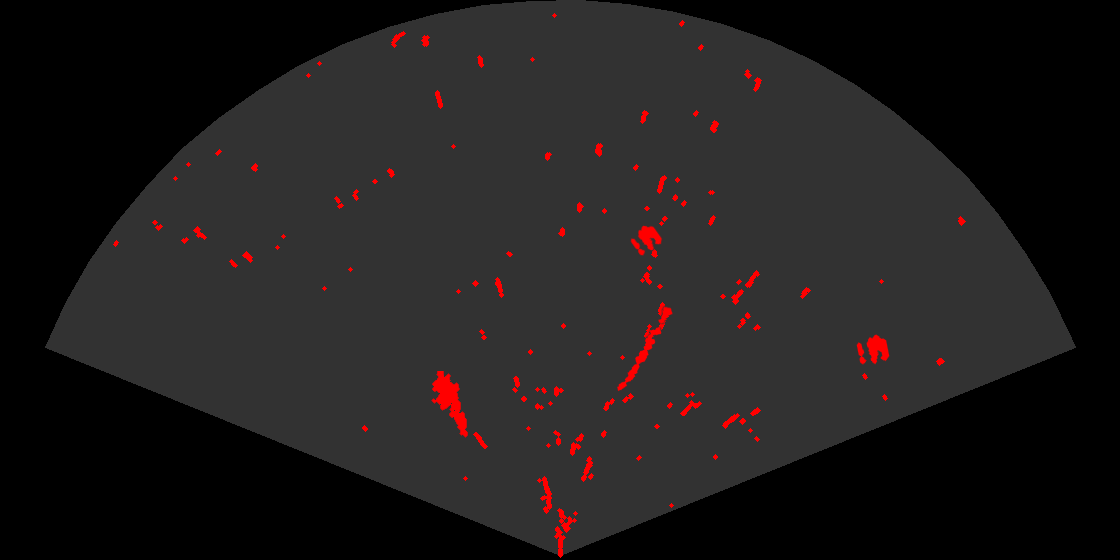ball: (855, 333, 891, 366), (629, 224, 664, 257)
chain: (616, 305, 674, 393)
frogman: (430, 371, 469, 439)
